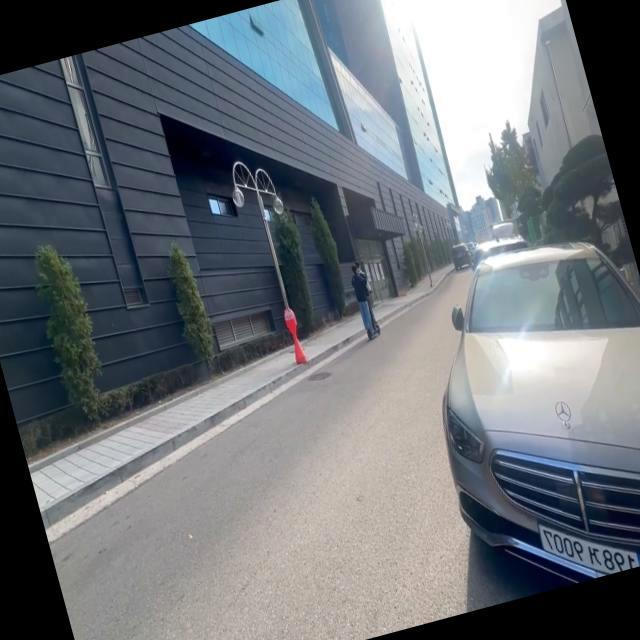bare_head: (354, 261, 363, 274), (351, 264, 359, 276)
human: (349, 265, 374, 336), (357, 261, 378, 331)
kickboard: (367, 322, 385, 342)
